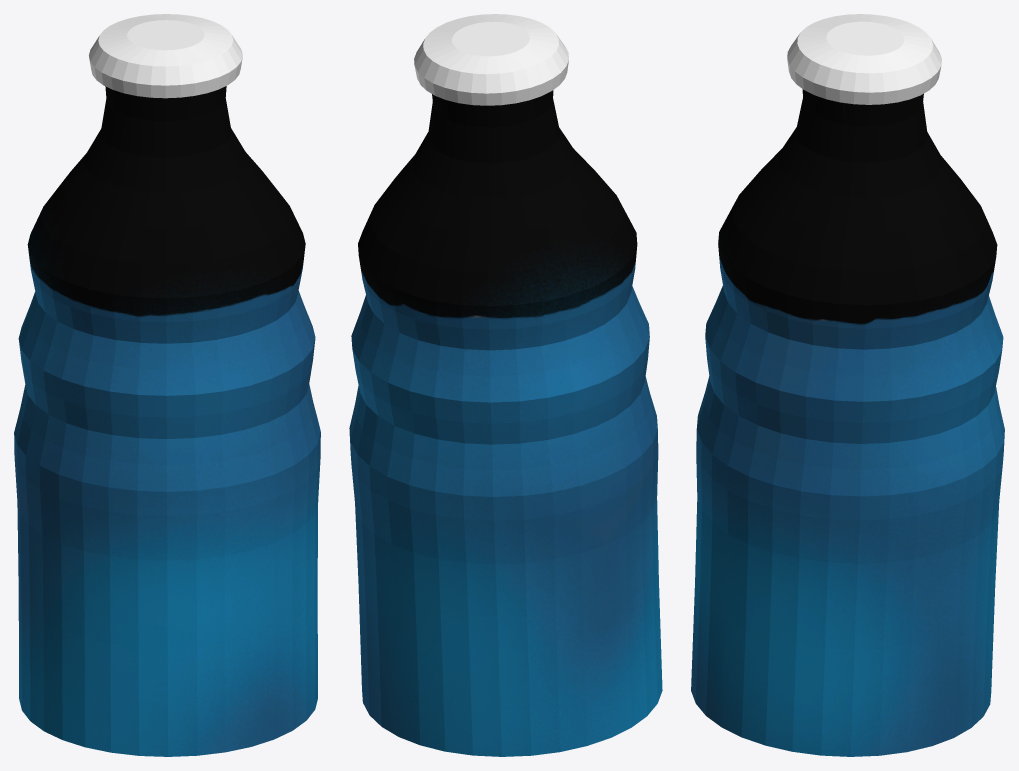
The model's file is bottle.fbx.
3 views of the same model, side by side, from view 1: azimuth 30°, elevation 25°; view 2: azimuth 150°, elevation 25°; view 3: azimuth 270°, elevation 25° (orthographic).
Parts seen in each view (by area): view 1: node_id4; view 2: node_id4; view 3: node_id4.
Boxes of the visible parts, bbox=[...] form: node_id4: bbox=[14, 14, 320, 756]; node_id4: bbox=[349, 14, 662, 756]; node_id4: bbox=[691, 14, 1004, 756].
Size of the model in its own units: 0.2178 by 0.5165 by 0.2216.
1 material, 1 textured.
